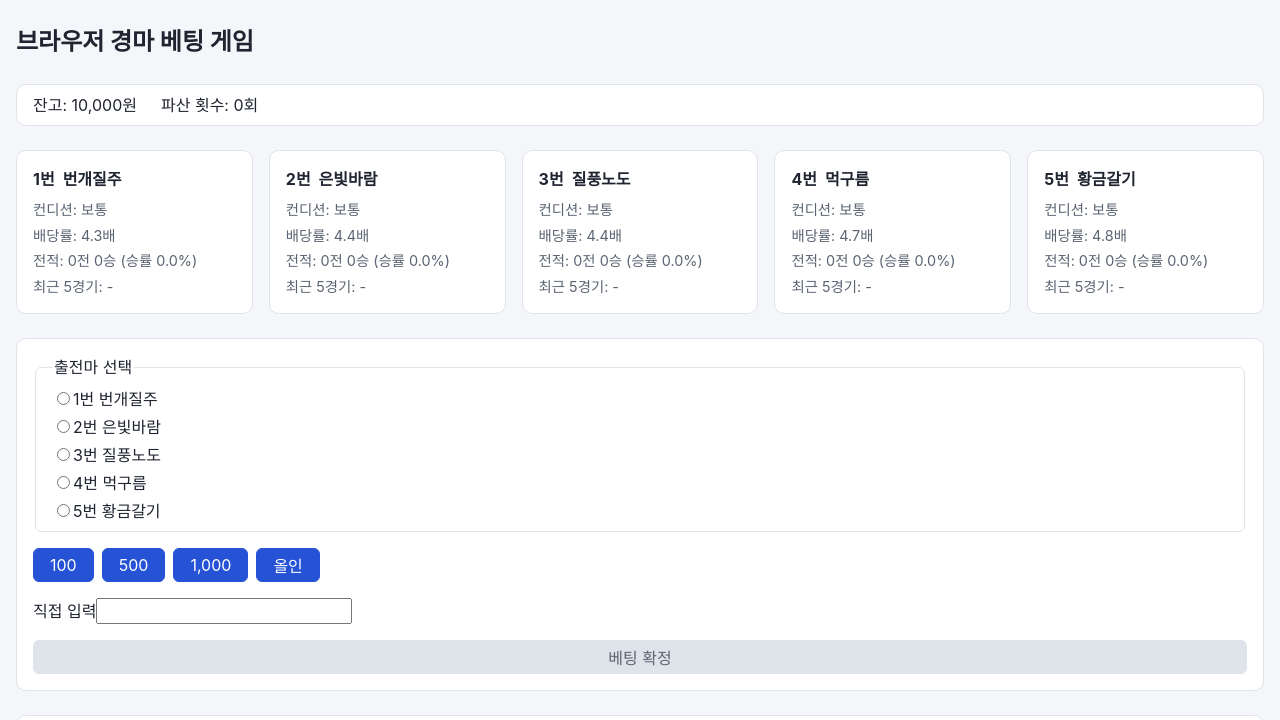
it: App › T22: 지속적 자동 저장 배선(store 변경 → persistence.save) › 진행 중 저장 시도가 실패하면 SaveResult.disabled=true로 전환되고 StorageBanner가 노출된다
What coordinates should you click on to do the following:
click the radio button labelled "1번 번개질주"
I would click on:
 (64, 399)
Its box is [57, 392, 70, 405].
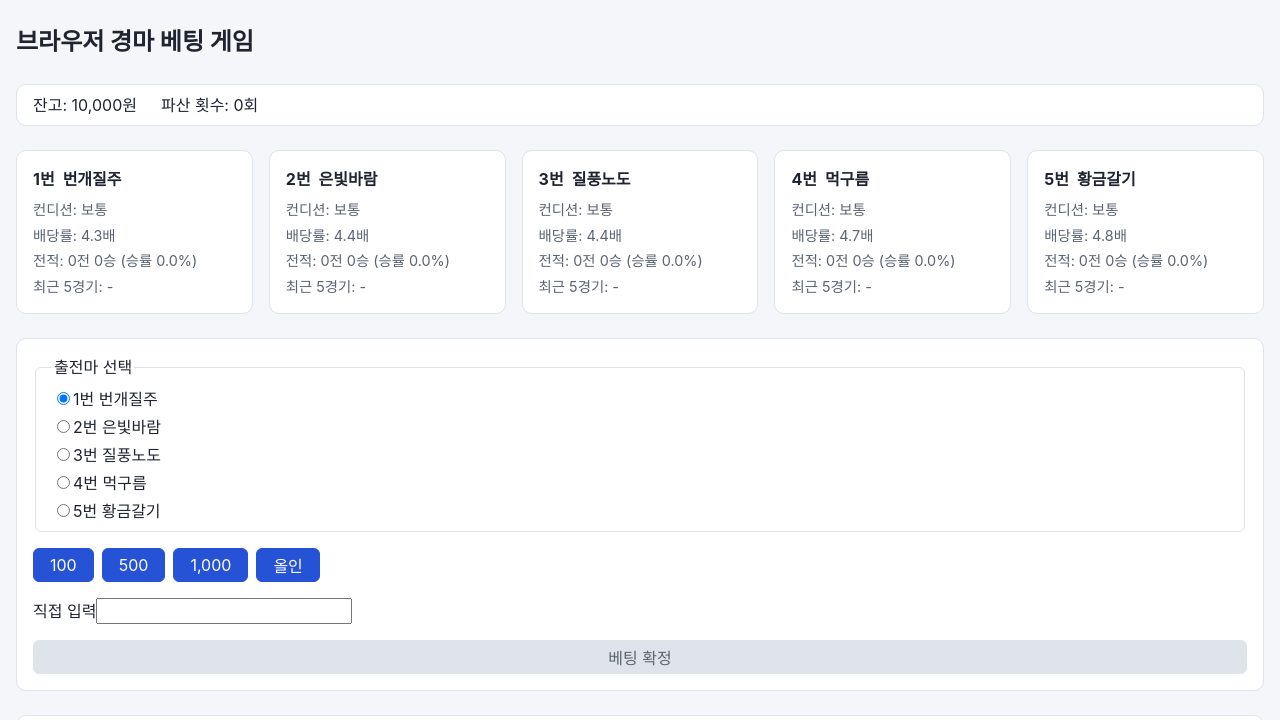
What coordinates should you click on to do the following:
click the button "100"
I would click on:
 (63, 565)
Its box is [33, 548, 94, 582].
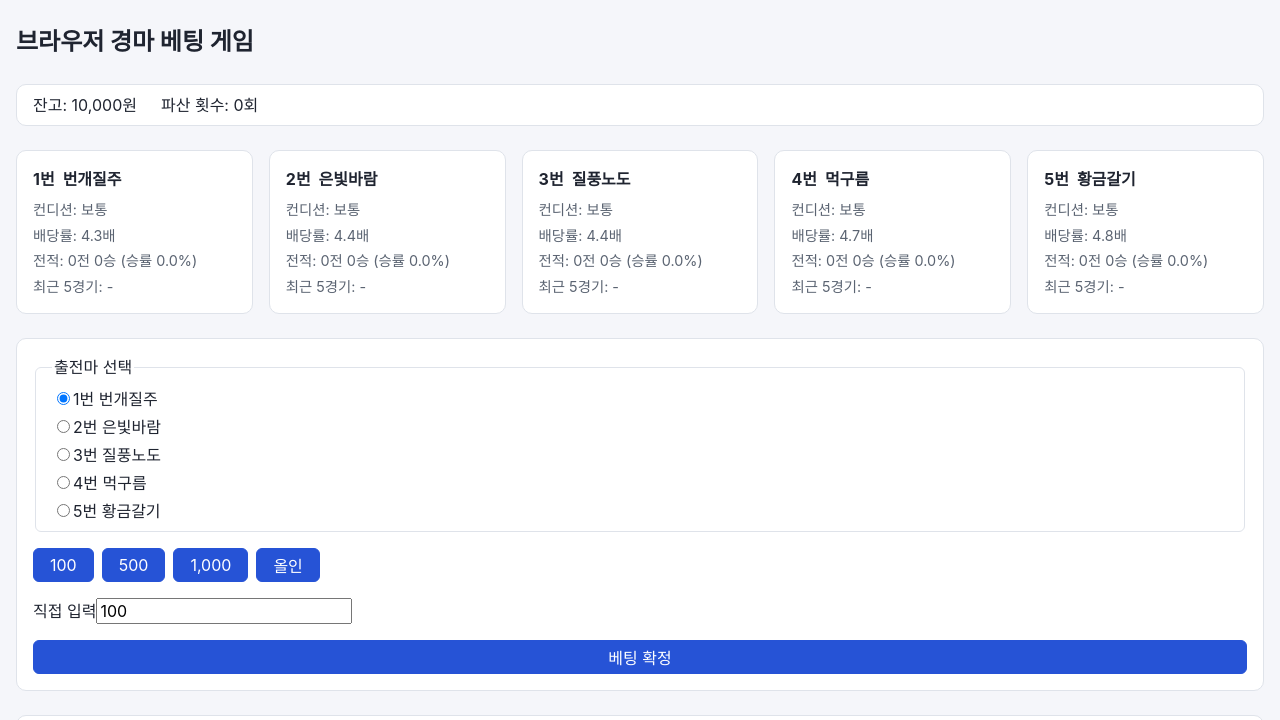
What coordinates should you click on to do the following:
click the button "베팅 확정"
I would click on:
 (640, 657)
Its box is [33, 640, 1247, 674].
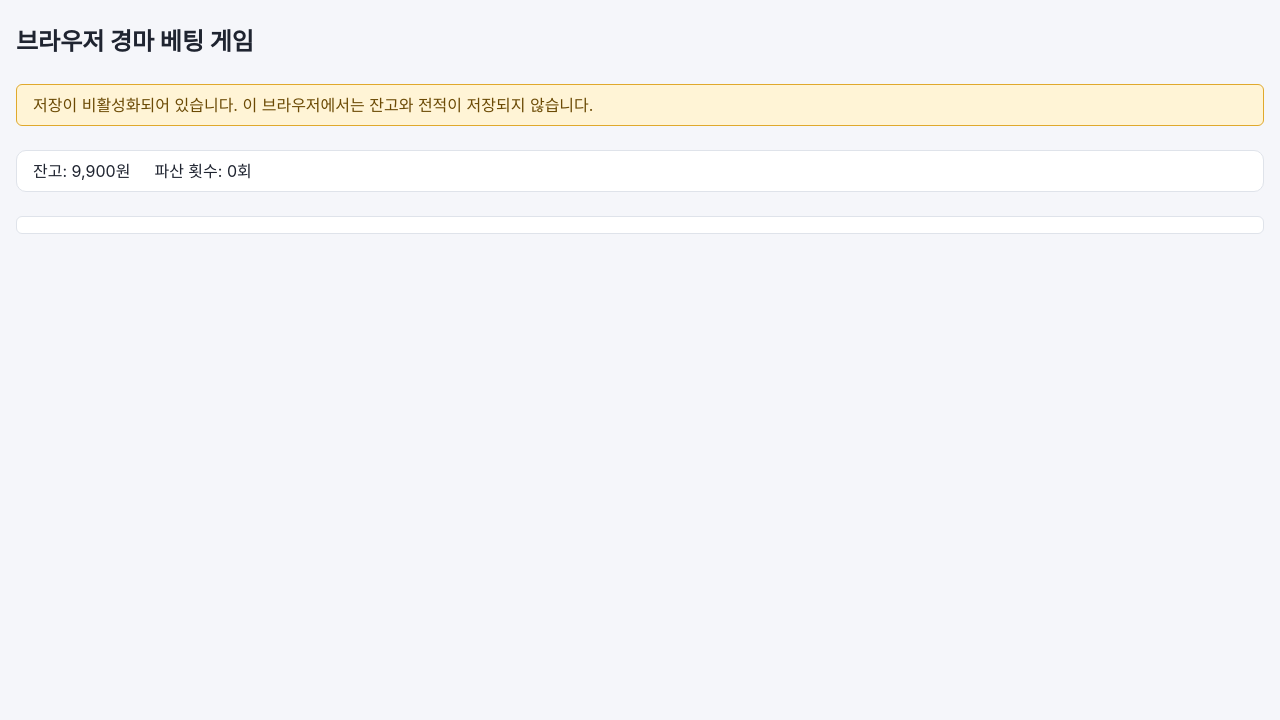
Check: the message shows "저장이 비활성화", box [33, 95, 593, 115]
